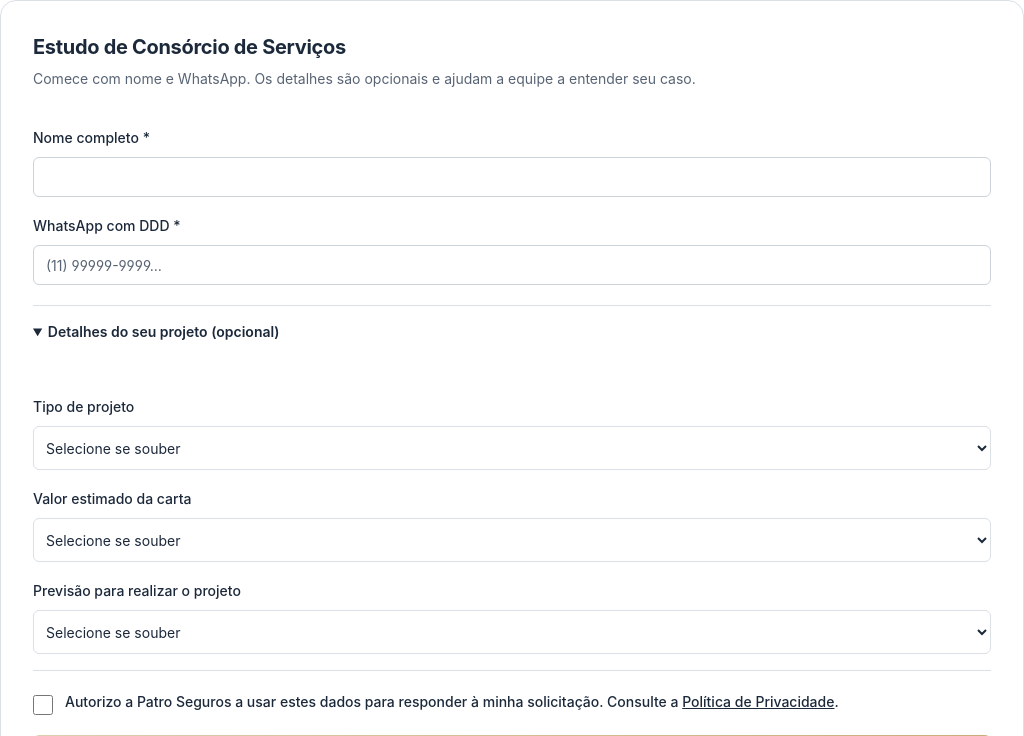
Test: Página nacional de consórcio de serviços › envia a qualificação pelo fluxo existente com consentimento e origem correta
The width and height of the screenshot is (1024, 736).
Type "Maria Teste" into the field labelled "Nome completo *" at (512, 177), box top-left (33, 157), bottom-right (991, 197)
Type "11999999999" into the field labelled "WhatsApp com DDD *" at (512, 265), box top-left (33, 245), bottom-right (991, 285)
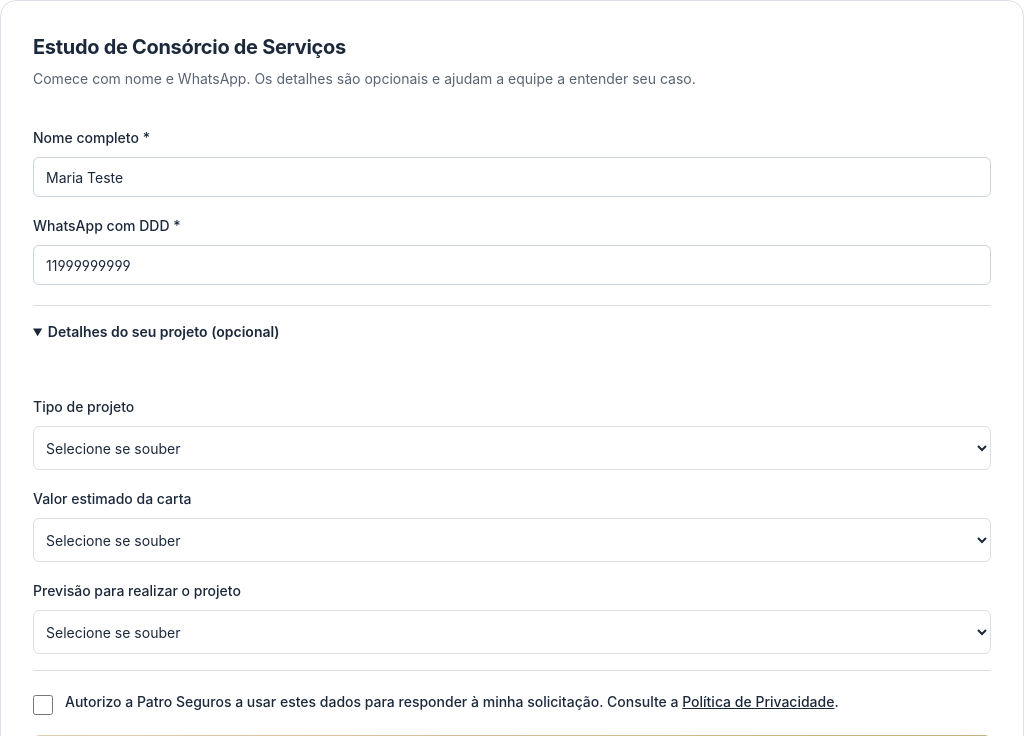
Select "Energia Solar / Fotovoltaica" in the dropdown labelled "Tipo de projeto" at (512, 448), box top-left (33, 426), bottom-right (991, 470)
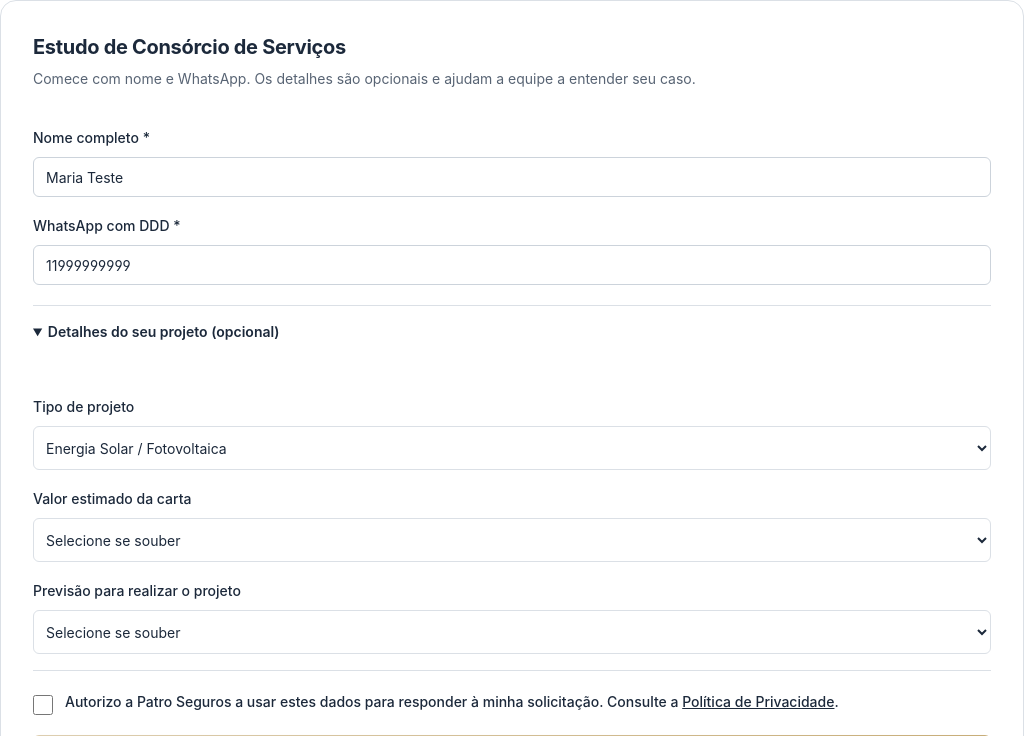
Select "R$ 10 mil a R$ 20 mil" in the dropdown labelled "Valor estimado da carta" at (512, 540), box top-left (33, 518), bottom-right (991, 562)
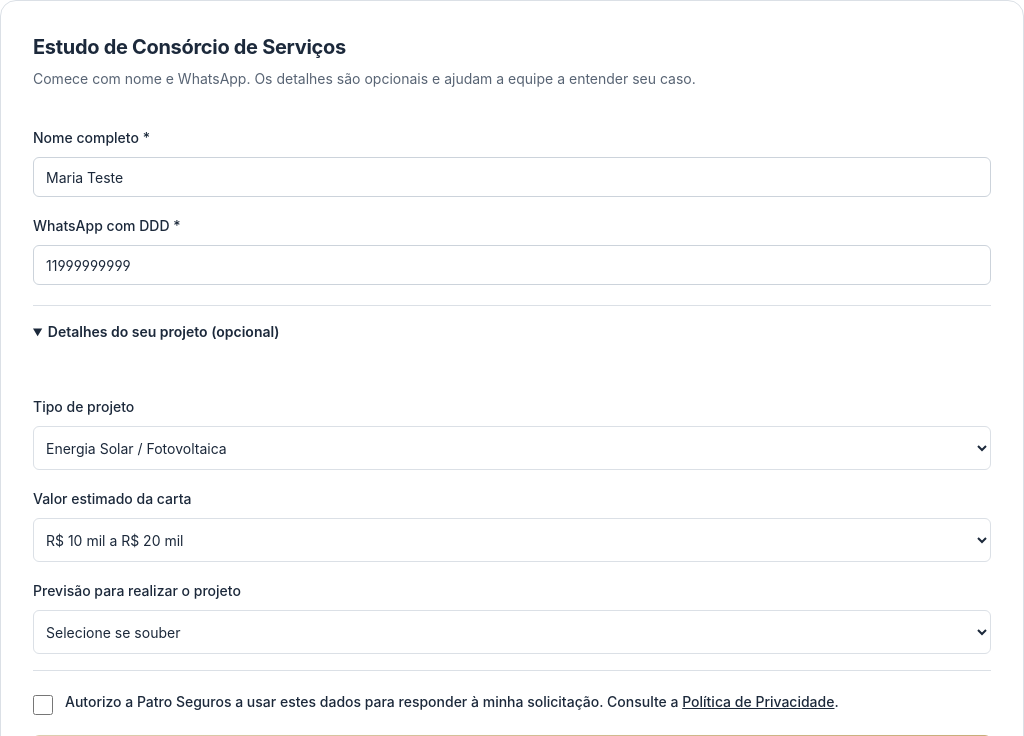
Select "Nos próximos 3 a 6 meses — tenho recurso para lance" in the dropdown labelled "Previsão para realizar o projeto" at (512, 632), box top-left (33, 610), bottom-right (991, 654)
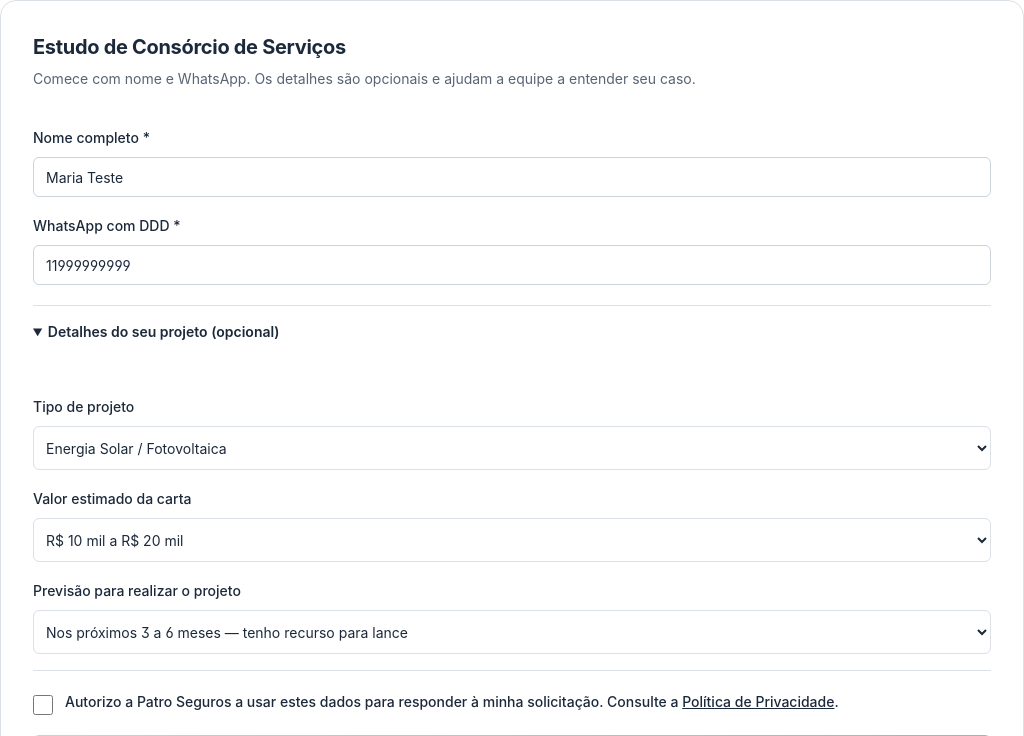
Click the checkbox at (43, 705), box top-left (33, 695), bottom-right (53, 715)
(page scrolled)
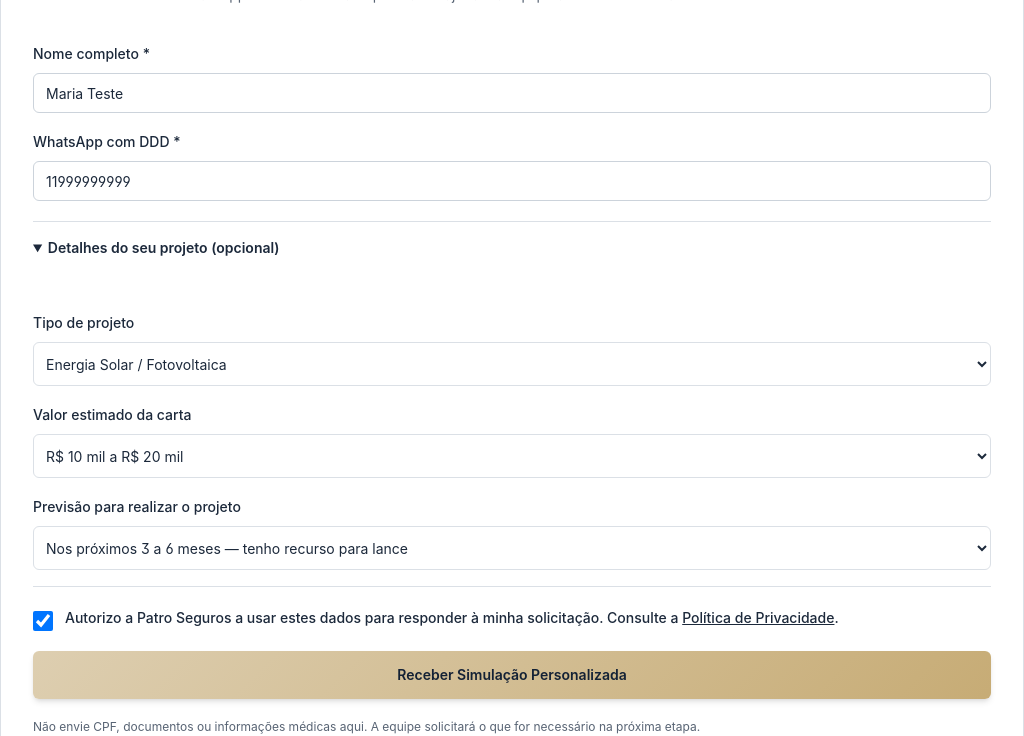
Click the button "Receber Simulação Personalizada" at (512, 675), box top-left (33, 651), bottom-right (991, 699)
(page scrolled)
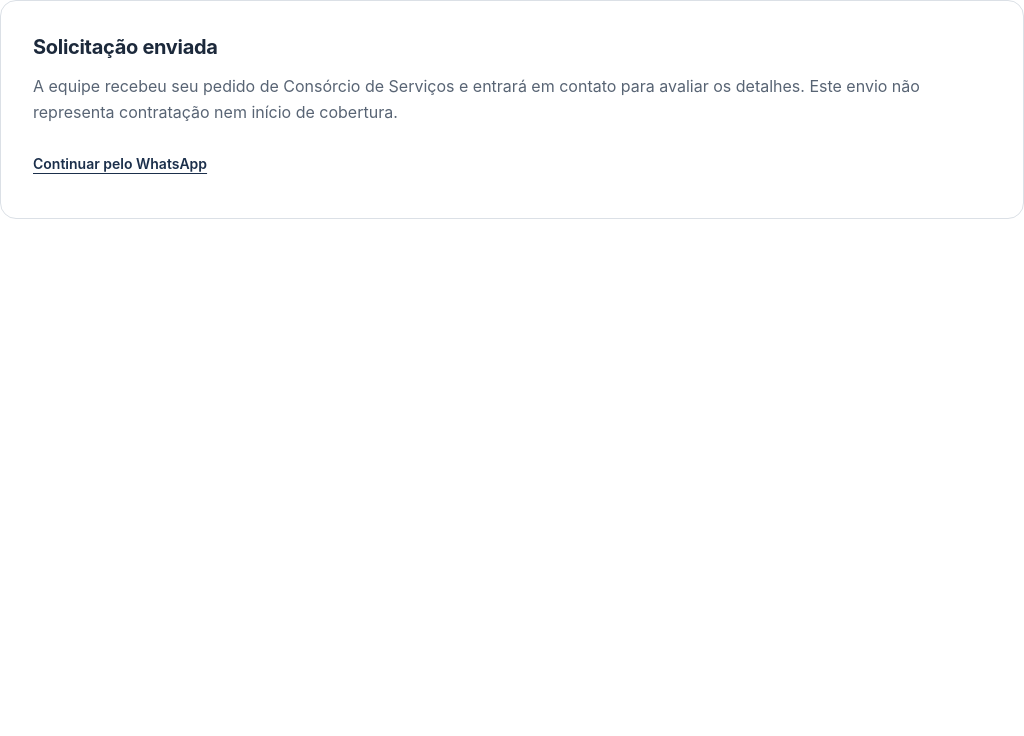
Result: the message is shown at top-left (0, 0), bottom-right (1023, 219)
